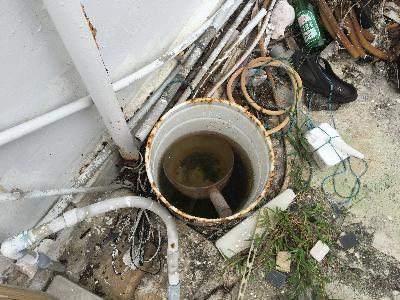bottle: (295, 1, 327, 50)
bowl: (163, 131, 235, 198)
bucket: (144, 98, 275, 239)
